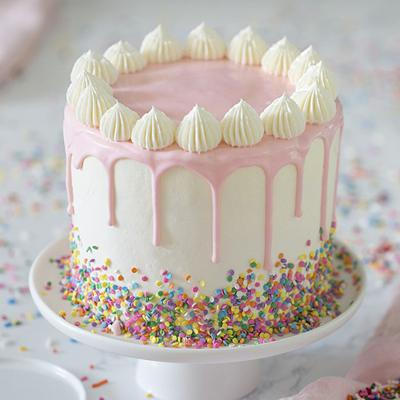cake: (62, 33, 345, 335)
